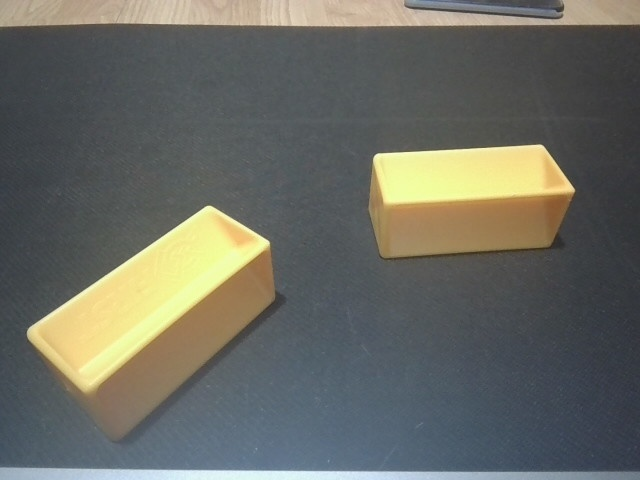YellowSample: (23, 201, 280, 444), (366, 141, 579, 262)
